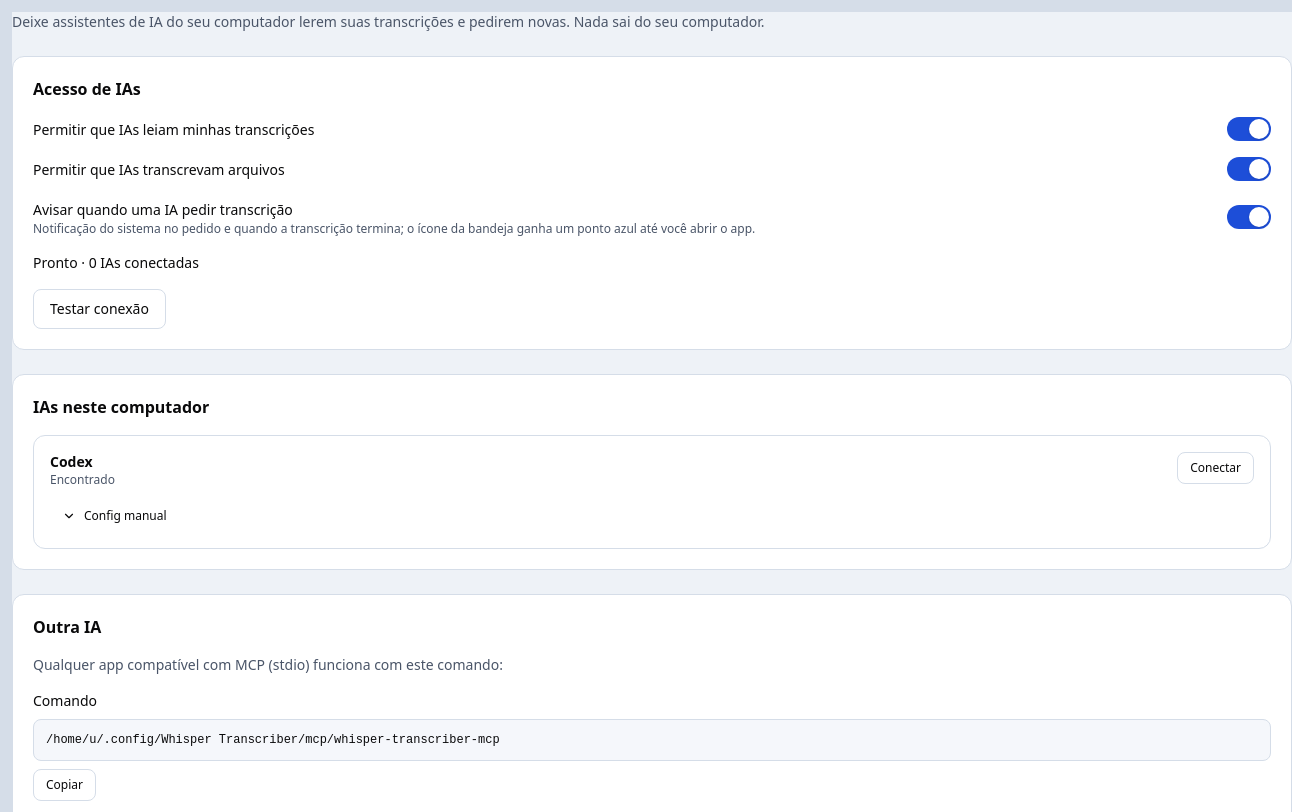
Scenario: AiSection — cartões › expande a config manual e copia
Expected: the heading "Codex" is shown, [50,452,92,471]
Click the button "Config manual" at (114, 516), box [50,500,179,532]
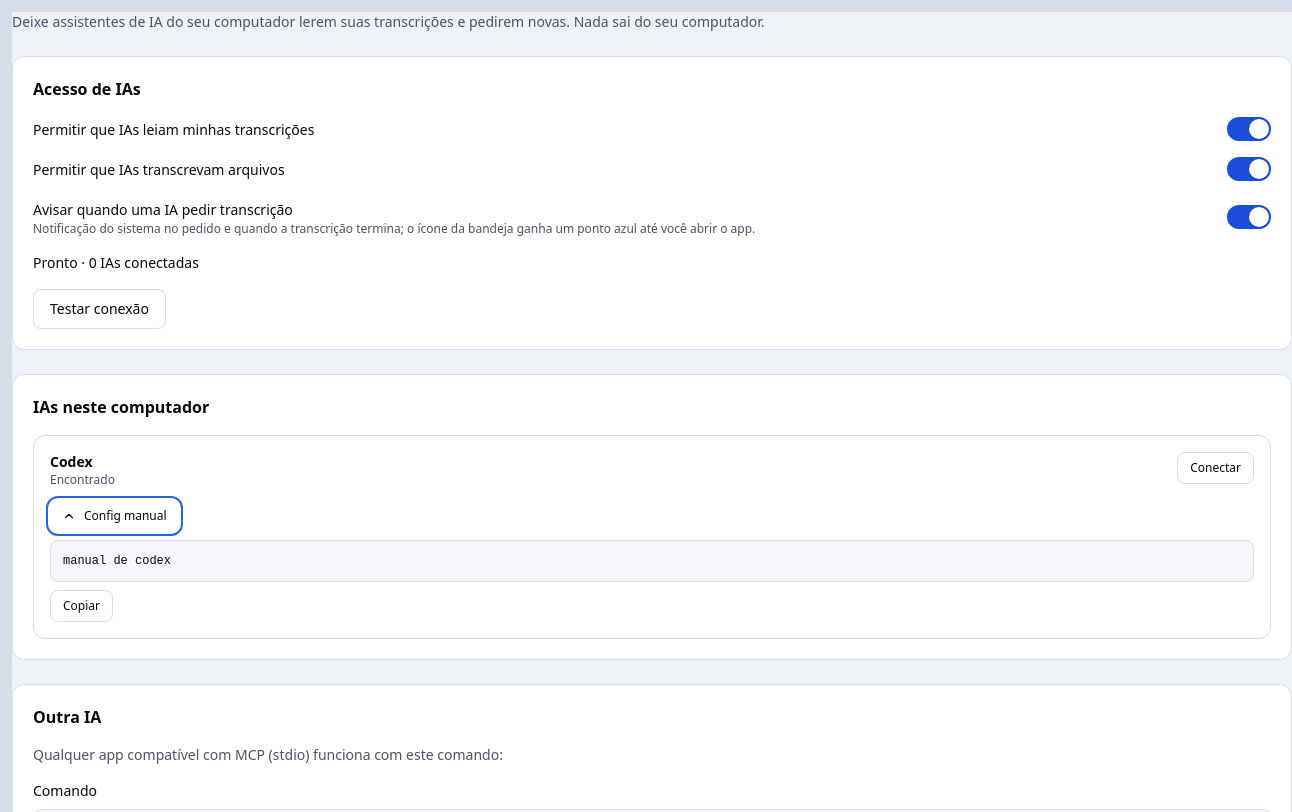
Expected: the text "manual de codex" is shown, [50,540,1254,582]
Click the button "Copiar" at (82, 606), box [50,590,113,622]
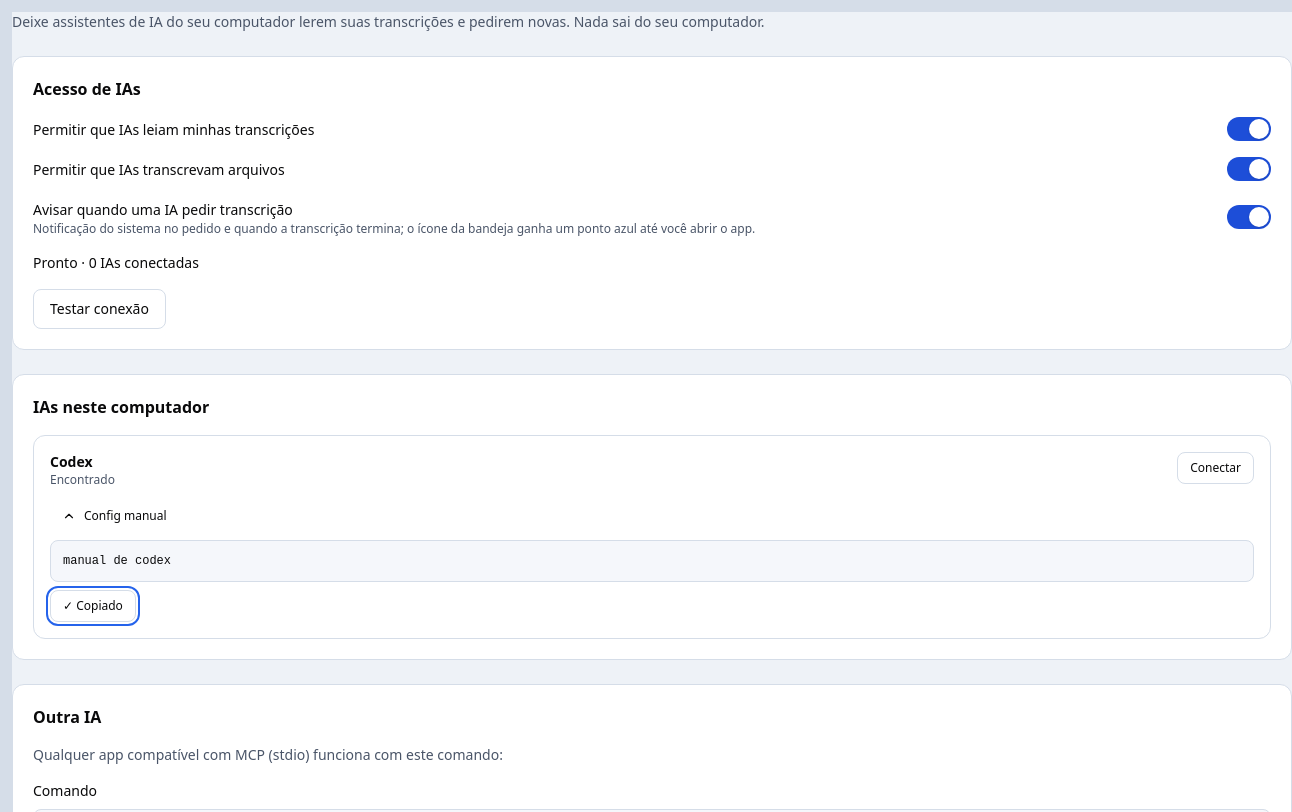
Expected: the button "✓ Copiado" is shown, [50,590,136,622]
